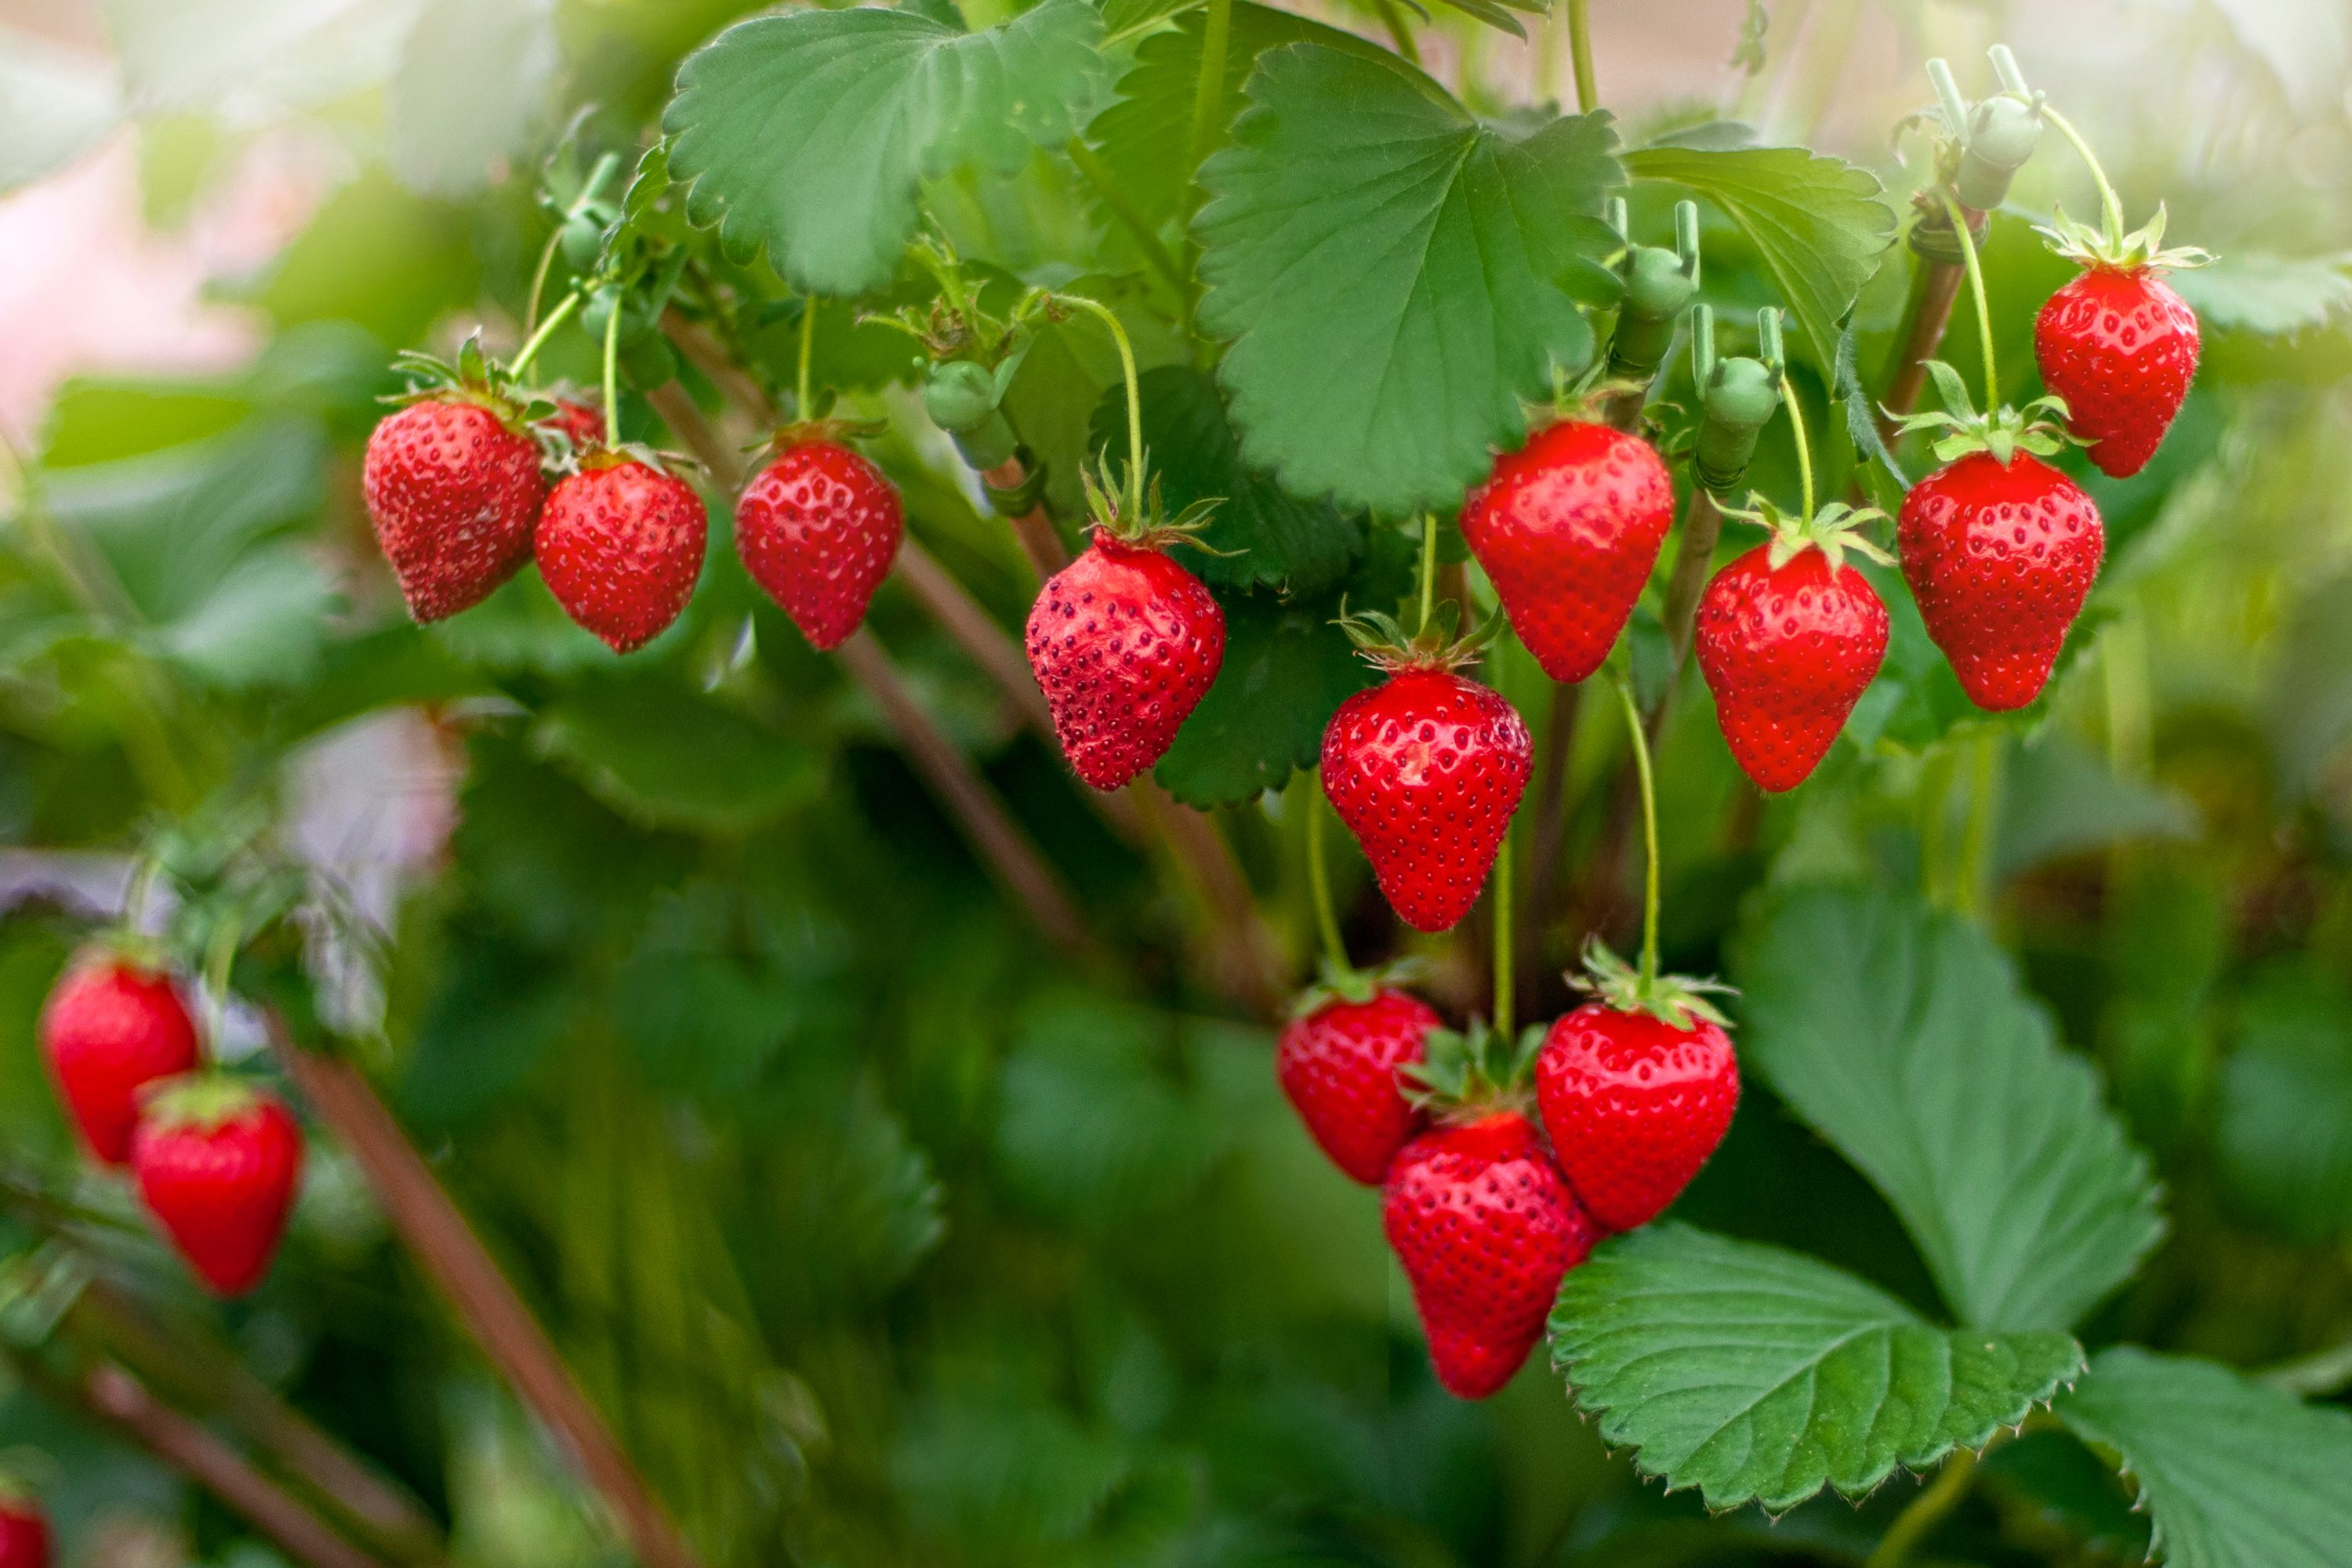ripe: (1010, 507, 1239, 801), (1374, 1108, 1592, 1409), (1311, 663, 1529, 938), (1524, 984, 1757, 1239), (1685, 536, 1901, 808), (1458, 420, 1673, 686), (1901, 441, 2109, 714), (361, 374, 555, 623), (2025, 241, 2219, 487), (117, 1071, 313, 1309), (1267, 976, 1463, 1197), (724, 436, 915, 656), (39, 935, 208, 1179), (534, 443, 703, 658), (518, 380, 611, 487)
